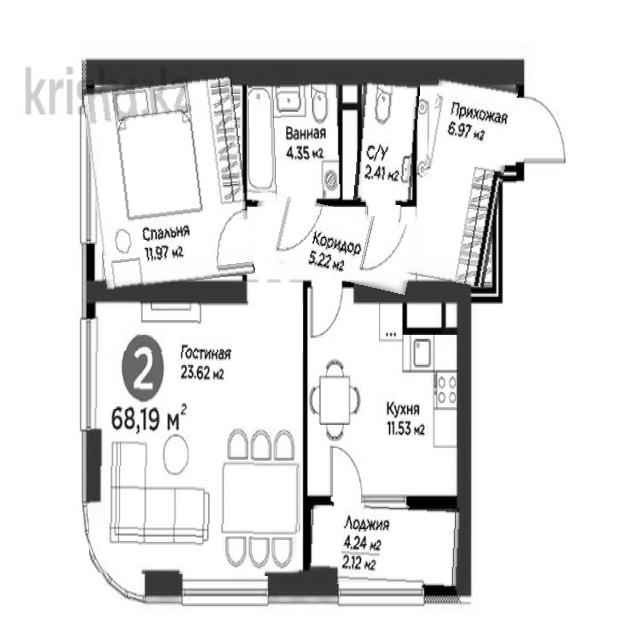balcony: (309, 503, 466, 589)
bathroom: (249, 77, 341, 206), (356, 75, 418, 205)
hallway: (414, 76, 511, 285), (248, 199, 418, 287)
kitchen: (310, 294, 462, 498)
living_room: (90, 300, 302, 575), (88, 75, 250, 287)
